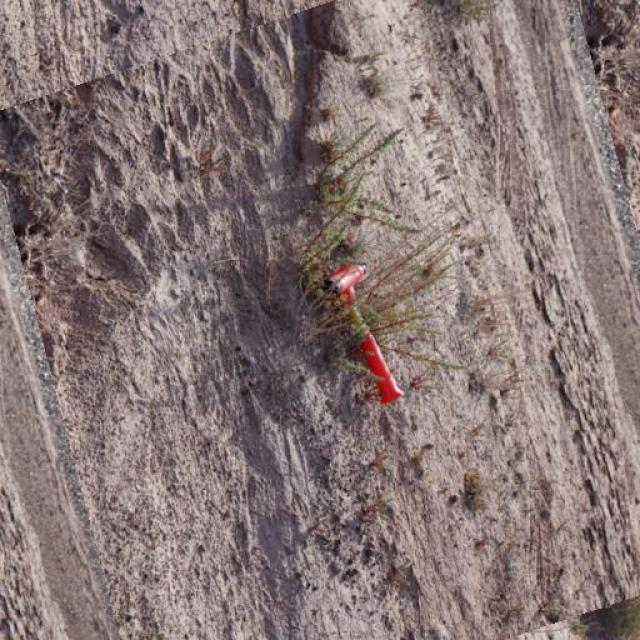mallet: (317, 260, 405, 405)
